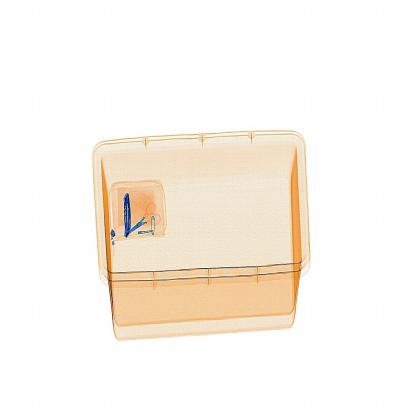knife: (115, 183, 141, 243)
